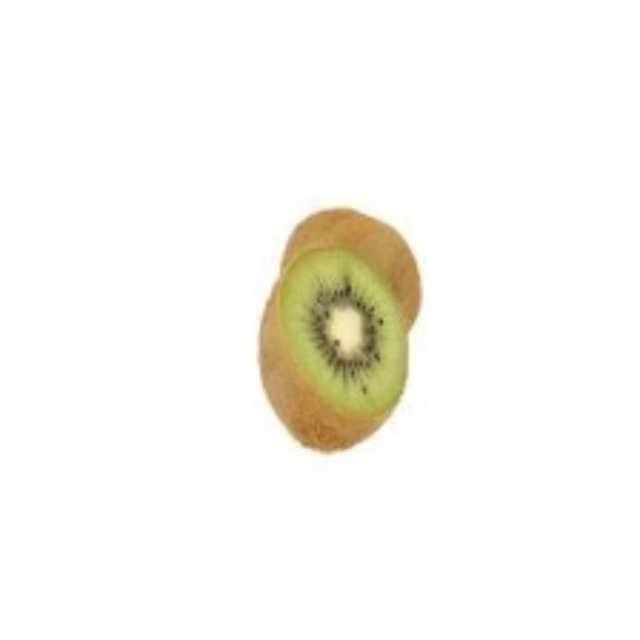kiwi: (250, 200, 453, 464)
